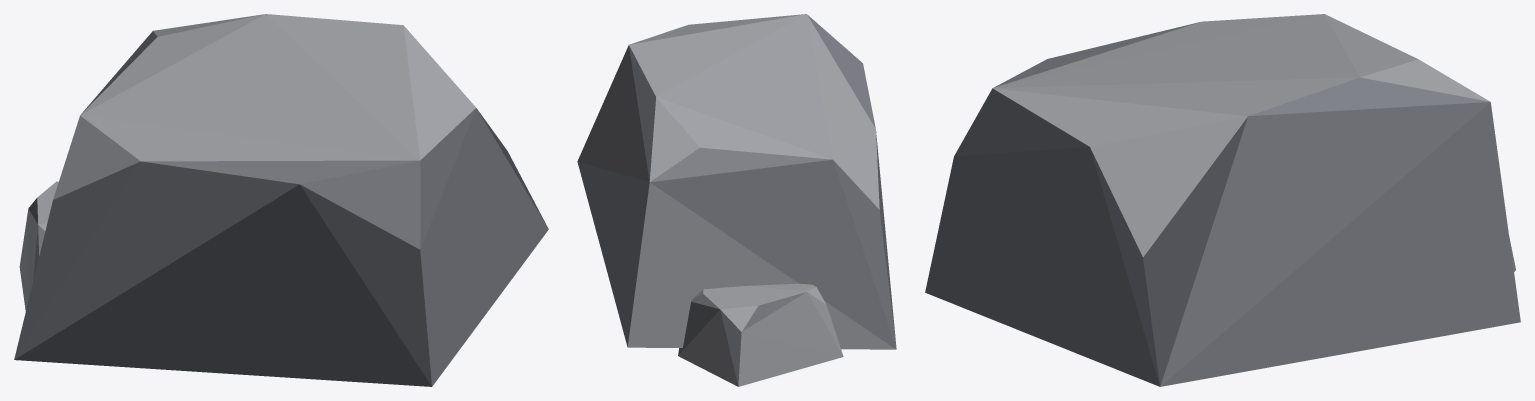
Rendered from rock_small_b.fbx.
3 renders of one model, left to right at view 1: azimuth 30°, elevation 25°; view 2: azimuth 150°, elevation 25°; view 3: azimuth 270°, elevation 25°, orthographic. The views are drawn at different scales.
Parts seen in each view (by area): view 1: rock_small_b; view 2: rock_small_b; view 3: rock_small_b.
Boxes of the visible parts, x1,y1,x2,y2 form: rock_small_b: (14, 14, 548, 386); rock_small_b: (577, 14, 896, 386); rock_small_b: (925, 14, 1520, 386).
Size of the model in its own units: 0.5276 by 0.2919 by 0.5426.
